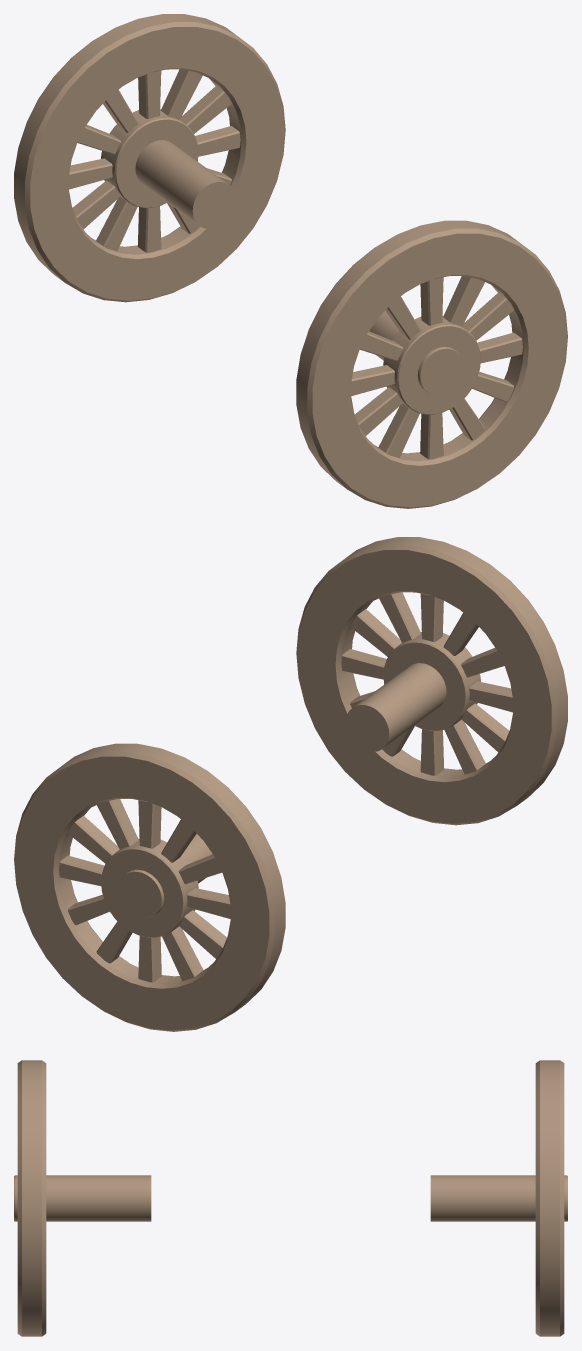
The model's file is WagonWheels.fbx.
3 views of the same model, one above another, from view 1: azimuth 30°, elevation 25°; view 2: azimuth 150°, elevation 25°; view 3: azimuth 270°, elevation 25° (orthographic). The views are drawn at different scales.
Parts seen in each view (by area): view 1: Right_Wheel, Left_Wheel; view 2: Left_Wheel, Right_Wheel; view 3: Right_Wheel, Left_Wheel.
Boxes of the visible parts, left/top/right/bottom form: Right_Wheel: left=296, top=220, right=567, bottom=508; Left_Wheel: left=14, top=14, right=285, bottom=302; Left_Wheel: left=14, top=743, right=285, bottom=1031; Right_Wheel: left=296, top=537, right=567, bottom=825; Right_Wheel: left=14, top=1060, right=151, bottom=1336; Left_Wheel: left=430, top=1060, right=567, bottom=1336.
Size of the model in its own units: 1.53 by 1.53 by 3.07.
